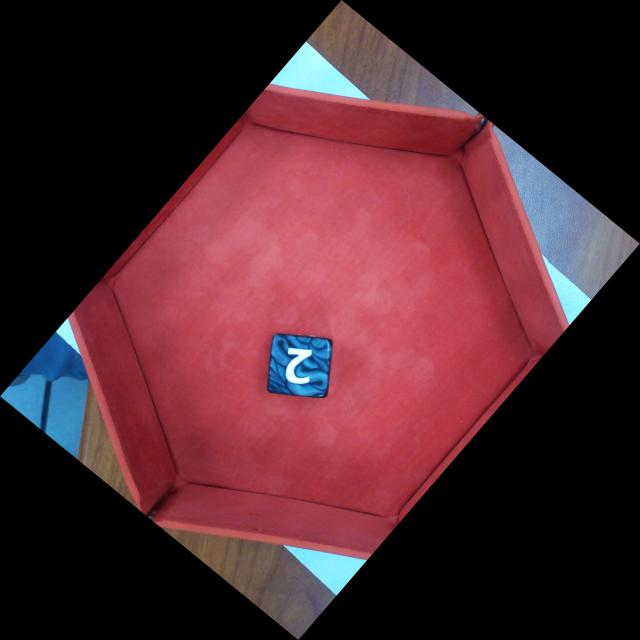dice: (268, 333, 333, 393)
